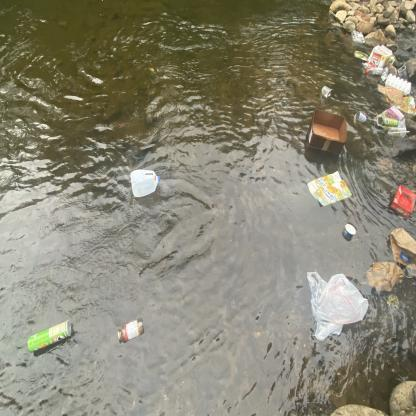trash: (303, 264, 372, 344), (306, 107, 350, 156), (24, 317, 76, 356), (302, 168, 352, 208), (364, 256, 406, 296), (386, 226, 416, 275), (127, 167, 162, 200), (386, 182, 416, 220), (114, 312, 147, 346), (361, 43, 397, 71), (381, 72, 413, 97), (386, 95, 416, 120), (374, 82, 405, 104), (374, 105, 406, 126), (373, 114, 403, 130), (340, 219, 358, 242), (384, 124, 412, 138), (349, 29, 367, 45), (350, 110, 370, 124), (352, 48, 372, 62), (318, 84, 334, 100), (363, 66, 385, 76)
